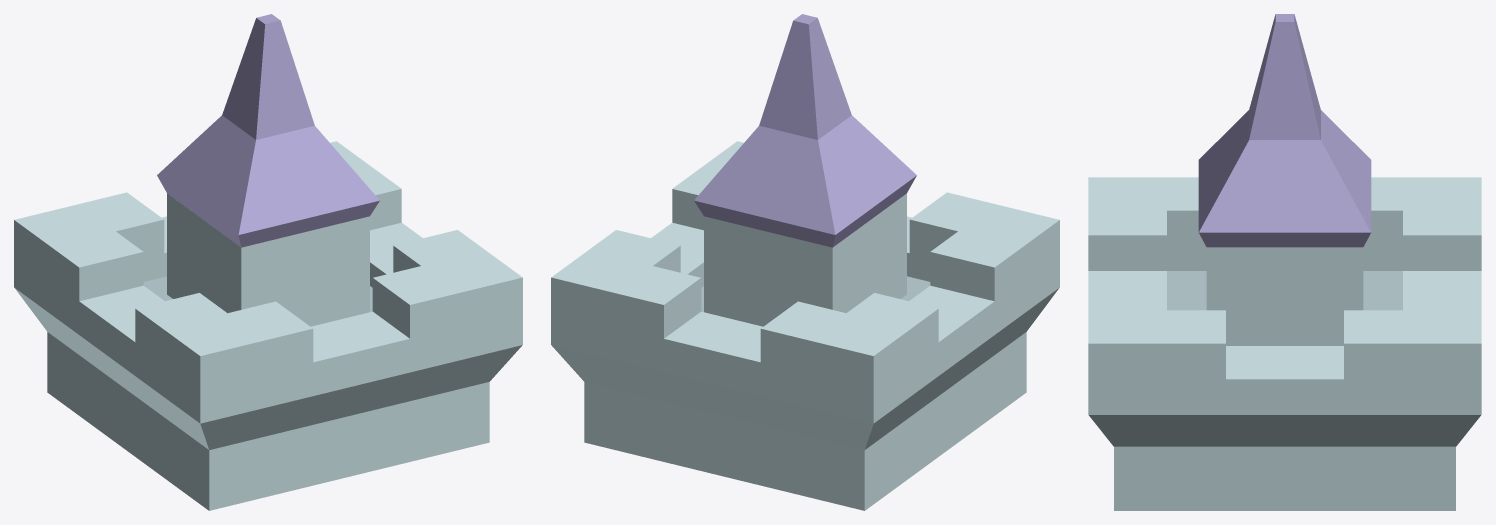
Rendered from towerSquare_roofC.glb.
3 views of the same model, side by side, from view 1: azimuth 30°, elevation 25°; view 2: azimuth 150°, elevation 25°; view 3: azimuth 270°, elevation 25° (orthographic). The views are drawn at different scales.
Visible parts, largest first — view 1: towerSquare_roofC; view 2: towerSquare_roofC; view 3: towerSquare_roofC.
Boxes of the visible parts, bbox=[...] form: towerSquare_roofC: bbox=[14, 14, 522, 510]; towerSquare_roofC: bbox=[551, 14, 1059, 510]; towerSquare_roofC: bbox=[1088, 14, 1481, 510].
Size of the model in its own units: 1 by 1.18 by 1.
